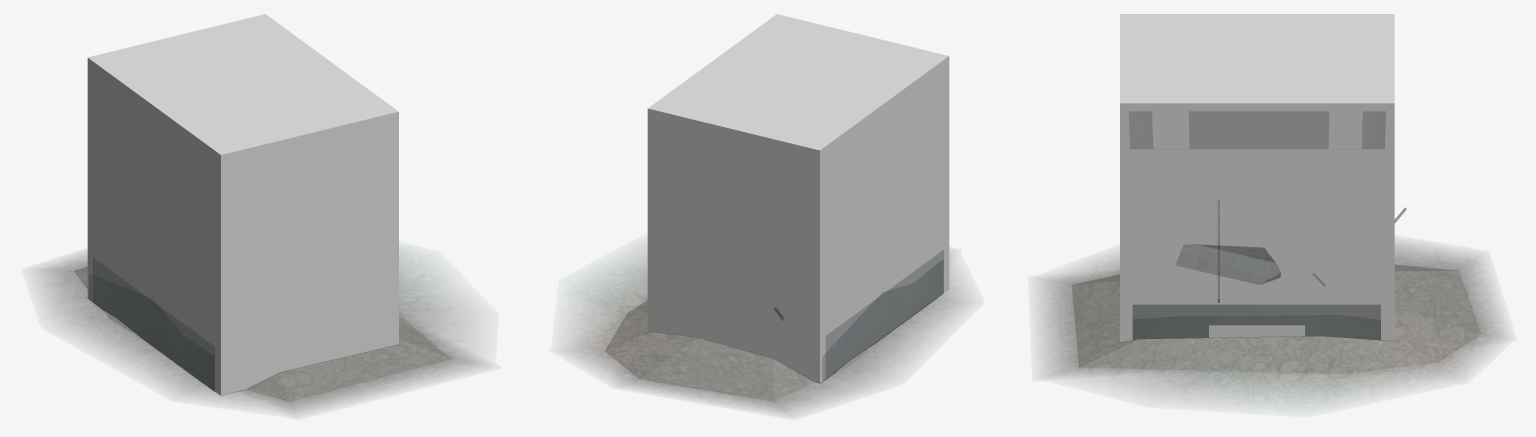
Rendered from source.glb.
3 renders of one model, left to right at view 1: azimuth 30°, elevation 25°; view 2: azimuth 150°, elevation 25°; view 3: azimuth 270°, elevation 25°, orthographic. The views are drawn at different scales.
Visible parts, largest first — view 1: coll_m206_0, state1_coll_m206_0, state1_obj_f8a370, state2_obj_f95640, state1_coll_m10a_0, state1_obj_f8b400, state2_obj_f95a30; view 2: coll_m206_0, state1_obj_f8a370, state2_obj_f95640, state1_coll_m10a_0, state1_coll_m206_0, state1_obj_f8b400, state2_obj_f95a30; view 3: coll_m206_0, state1_coll_m206_0, state1_obj_f8a370, state2_obj_f95640, state1_coll_m10a_0, obj_f85a10, state1_obj_f8b400, state1_obj_f8c1d0, state2_obj_f95a30.
Boxes of the visible parts, x1,y1,x2,y2 form: coll_m206_0: (87,14,398,395); state1_coll_m206_0: (91,15,396,148); state1_obj_f8a370: (49,257,474,409); state2_obj_f95640: (57,260,467,407); state1_coll_m10a_0: (74,266,450,401); state1_obj_f8b400: (93,258,214,391); state2_obj_f95a30: (89,274,214,390); coll_m206_0: (647,14,949,383); state1_obj_f8a370: (578,266,952,409); state2_obj_f95640: (587,275,943,406); state1_coll_m10a_0: (605,300,875,401); state1_coll_m206_0: (658,22,944,147); state1_obj_f8b400: (826,250,943,378); state2_obj_f95a30: (774,259,943,380); coll_m206_0: (1120,14,1394,342); state1_coll_m206_0: (1123,15,1390,341); state1_obj_f8a370: (1051,249,1497,393); state2_obj_f95640: (1057,254,1492,387); state1_coll_m10a_0: (1071,264,1480,374); obj_f85a10: (1129,111,1385,339); state1_obj_f8b400: (1133,305,1380,339); state1_obj_f8c1d0: (1176,244,1280,284); state2_obj_f95a30: (1133,207,1406,339).
Size of the model in its own units: 377 by 222 by 400.
Materials: 14 (14 with a texture image).
